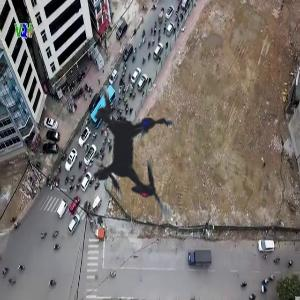drone: (24, 46, 240, 262)
